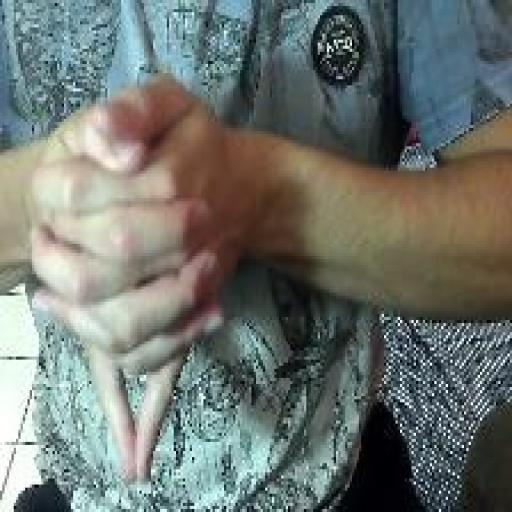Tatsu -dragon-: (28, 69, 228, 492)
